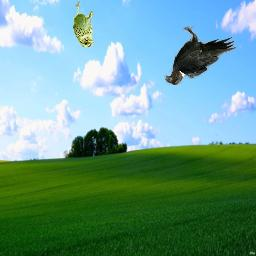Crow: (164, 25, 237, 85)
Sparrow: (72, 1, 94, 47)
